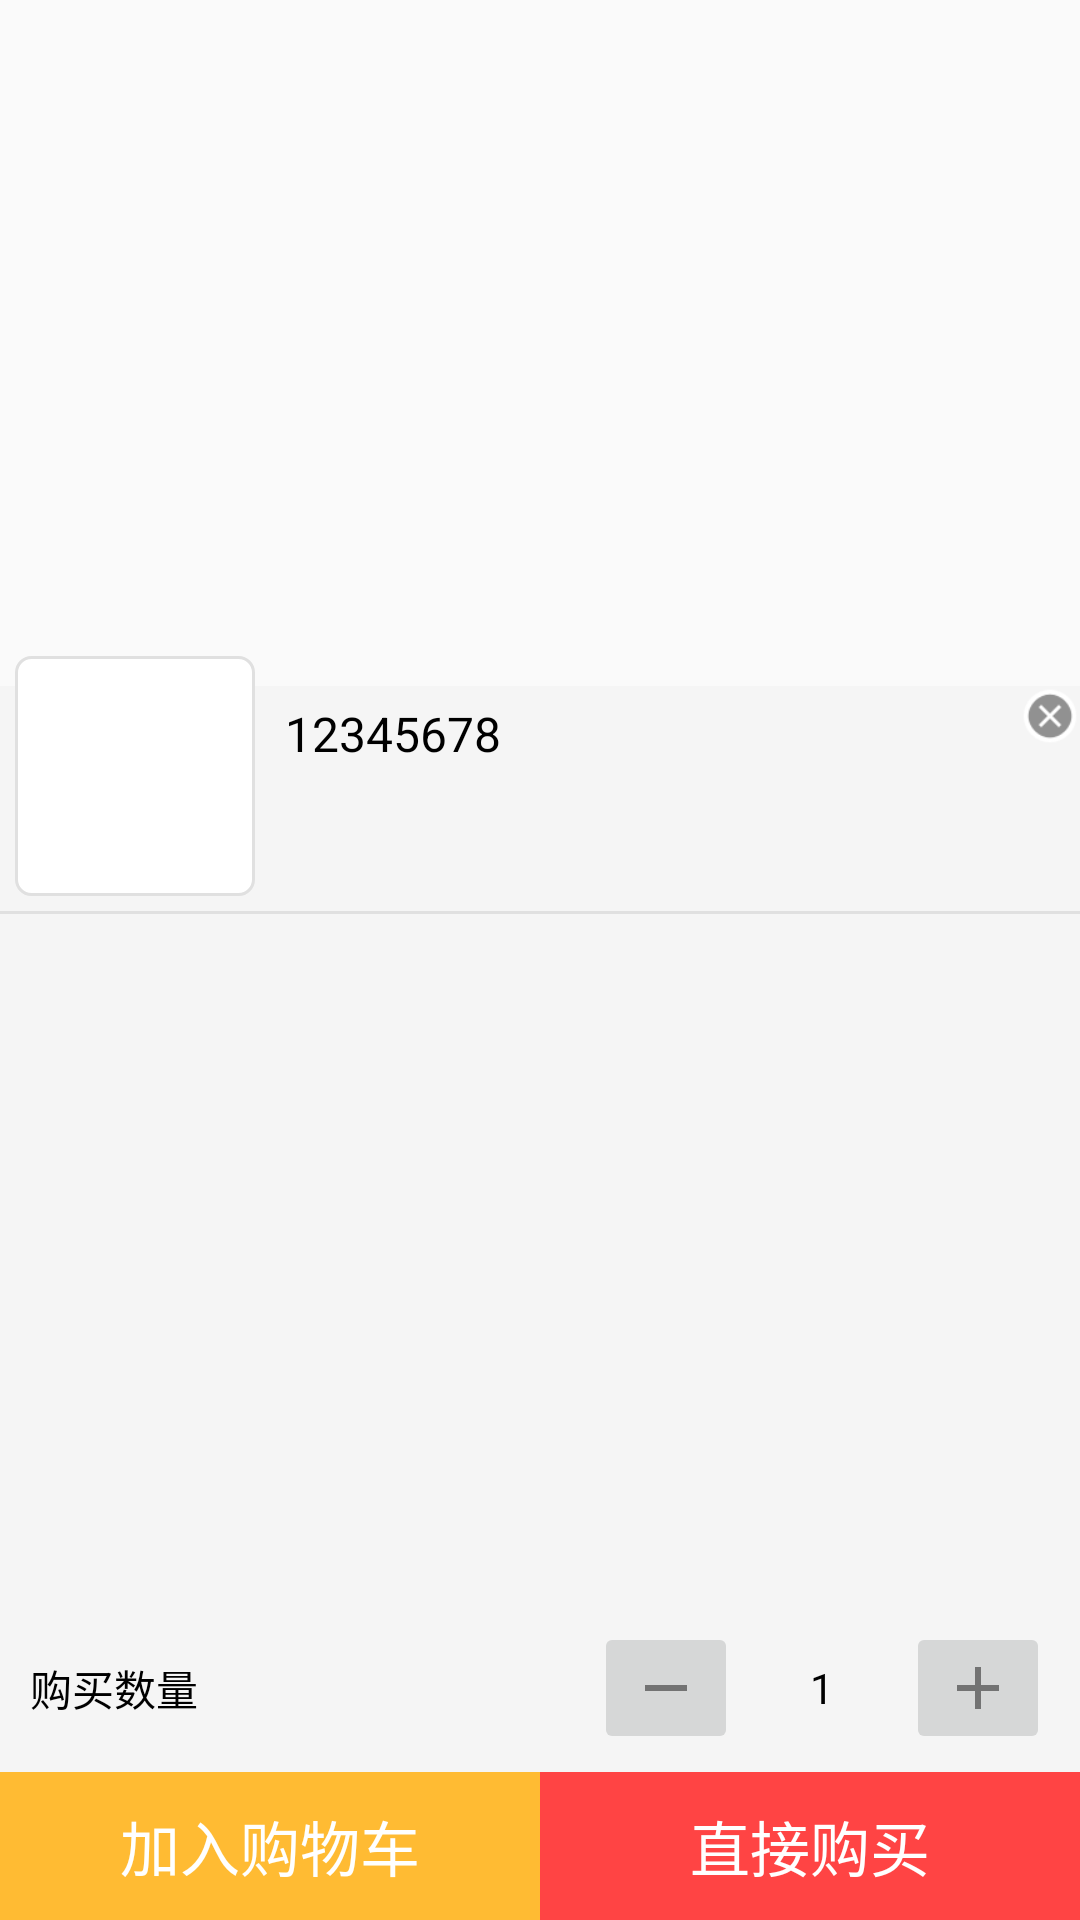

Icons on this 1080×1920 Android screen, each with the point to tap as [x,y]:
add: [978,1688]
presence offline: [1050,716]
remove: [666,1688]
